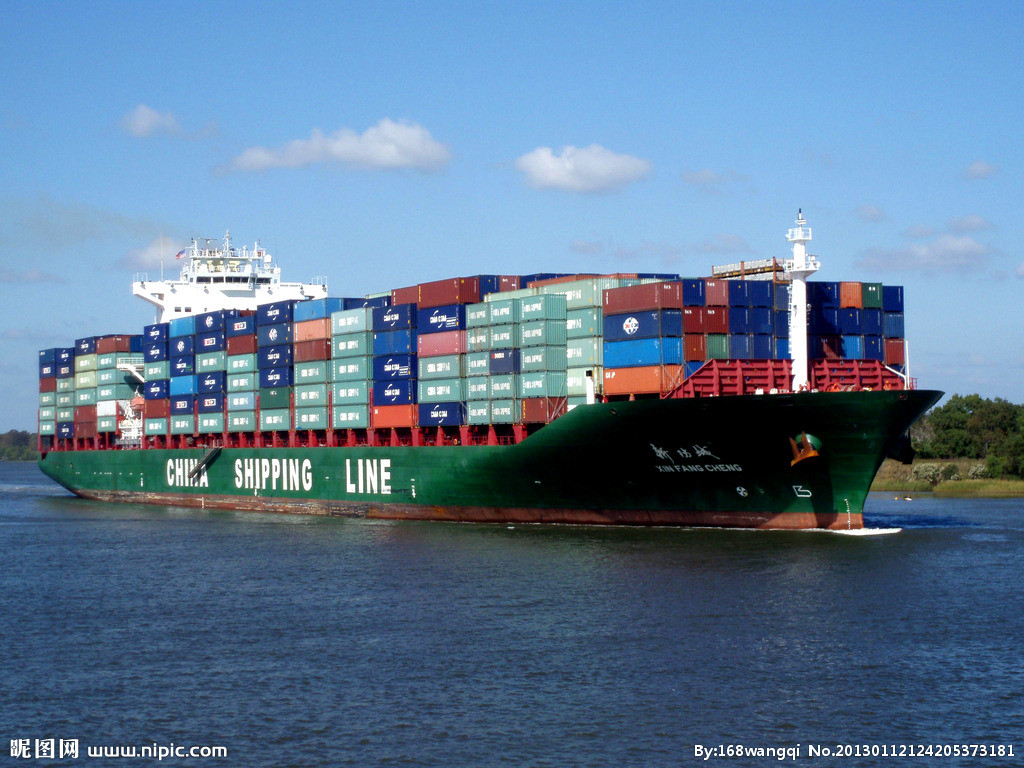Cargoship: (31, 229, 951, 530)
